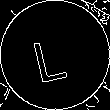L_N: (34, 27, 76, 83)
